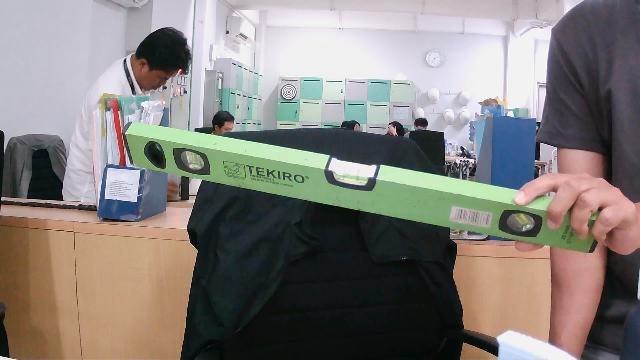water_pass: (121, 107, 600, 260)
